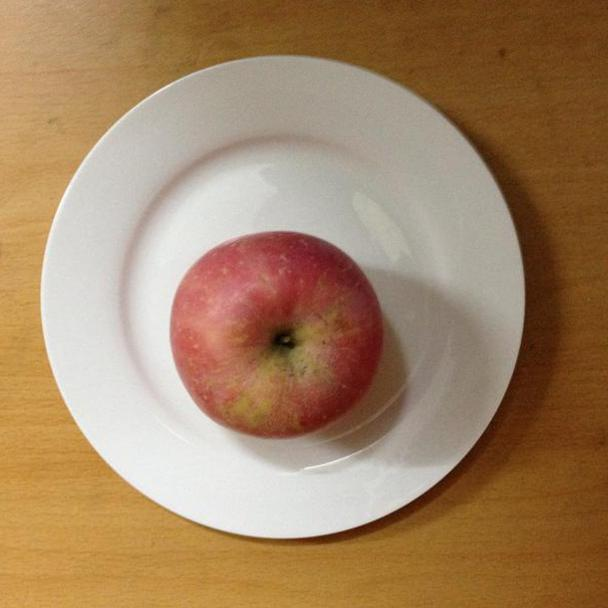apple: (170, 233, 384, 441)
